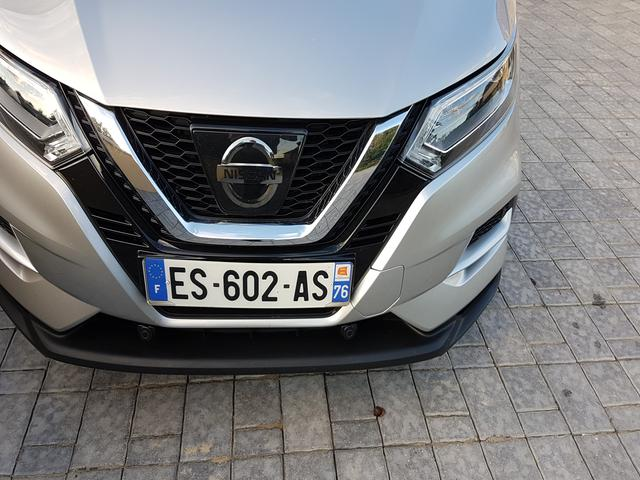Quashquai: (126, 217, 379, 330)
